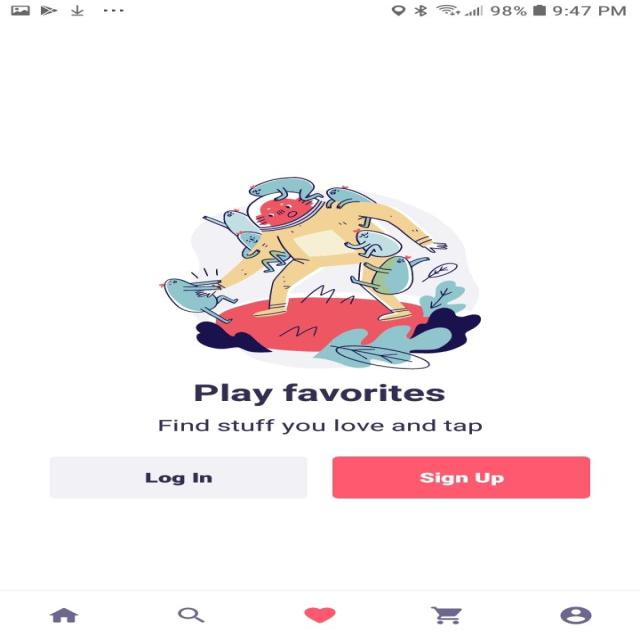Icon: (430, 605, 462, 624), (559, 606, 591, 624), (303, 606, 336, 623), (48, 607, 79, 622), (177, 606, 204, 623)
Image: (158, 176, 482, 370)
Text: (193, 382, 444, 406), (158, 418, 482, 435)
TextButton: (332, 456, 590, 498), (50, 456, 308, 498)
